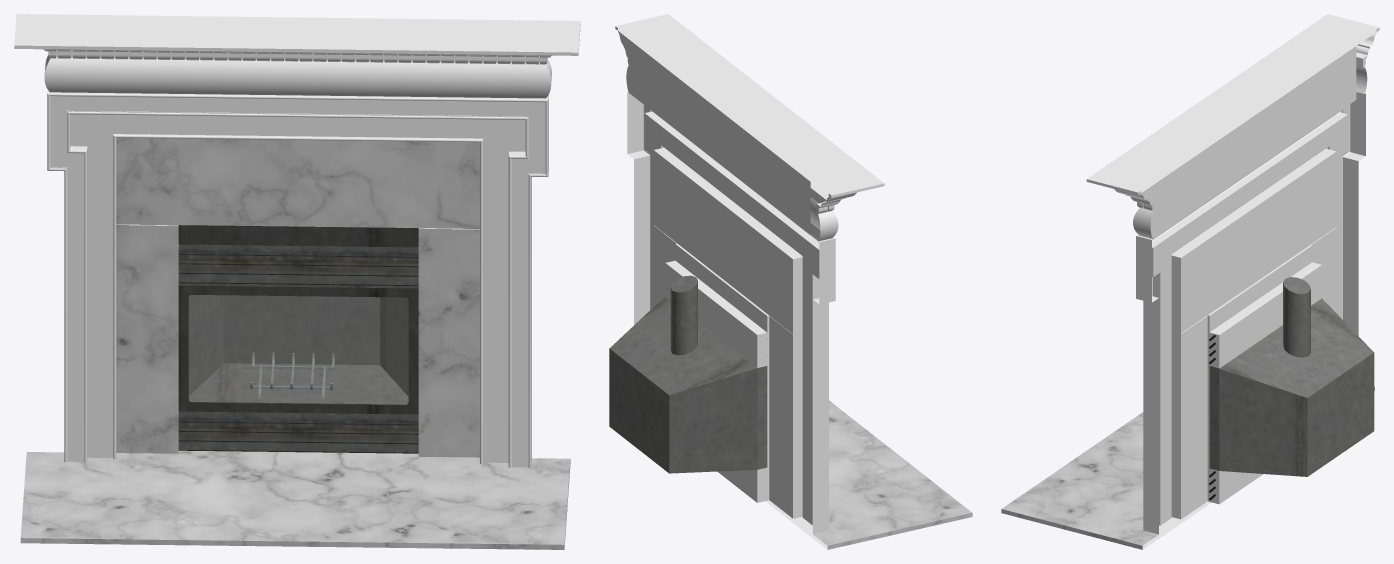
3 renders of one model, left to right at view 1: azimuth 30°, elevation 25°; view 2: azimuth 150°, elevation 25°; view 3: azimuth 270°, elevation 25°, orthographic. The views are drawn at different scales.
Parts seen in each view (by area): view 1: Material2 (×15), Material3 (×3); view 2: Material2 (×7), Material3 (×5); view 3: Material2 (×7), Material3 (×6).
Part boxes in pixels (bbox=[...]): Material2 (×15): bbox=[14, 14, 580, 549]; Material3 (×3): bbox=[178, 225, 418, 414]; Material2 (×7): bbox=[609, 14, 972, 549]; Material3 (×5): bbox=[618, 28, 828, 533]; Material2 (×7): bbox=[1001, 14, 1379, 549]; Material3 (×6): bbox=[1141, 30, 1376, 549].
Bounding box in the file's own units: 51.07 × 43.12 × 41.
Materials: 9 (5 with a texture image).
